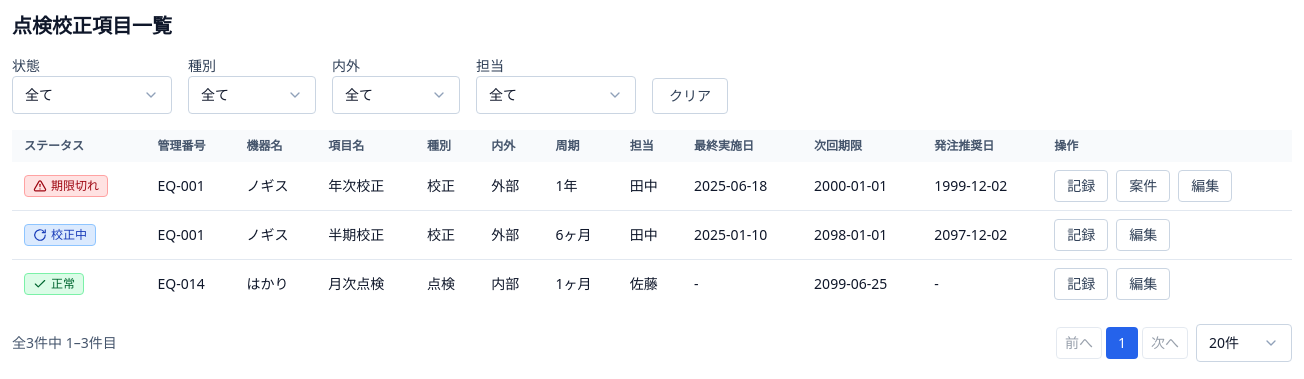
Test: ServiceItemList: フィルタ › 種別セレクトを変更すると行が絞られ URL に type が反映される
Click the dropdown named "種別" at (252, 95), box x1=188 y1=76 x2=316 y2=114
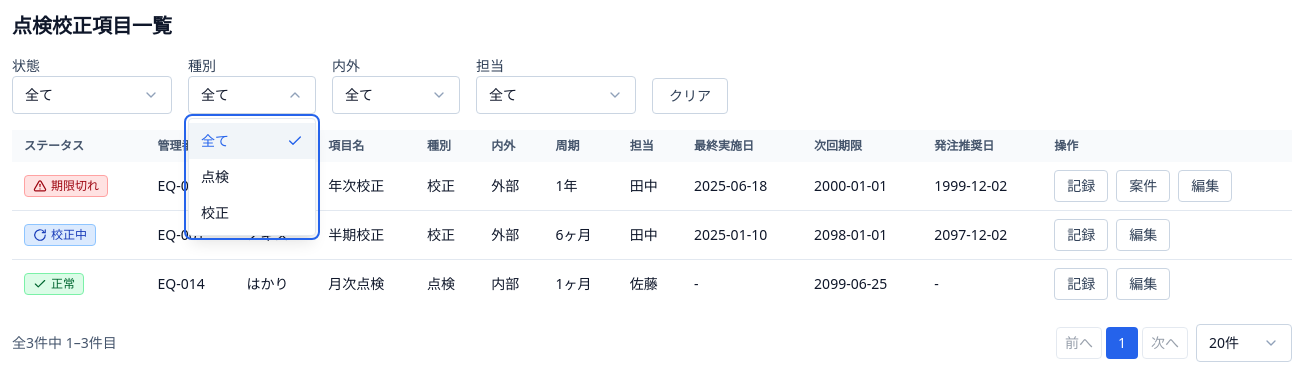
Click the option "点検" at (252, 177), box x1=189 y1=159 x2=315 y2=195
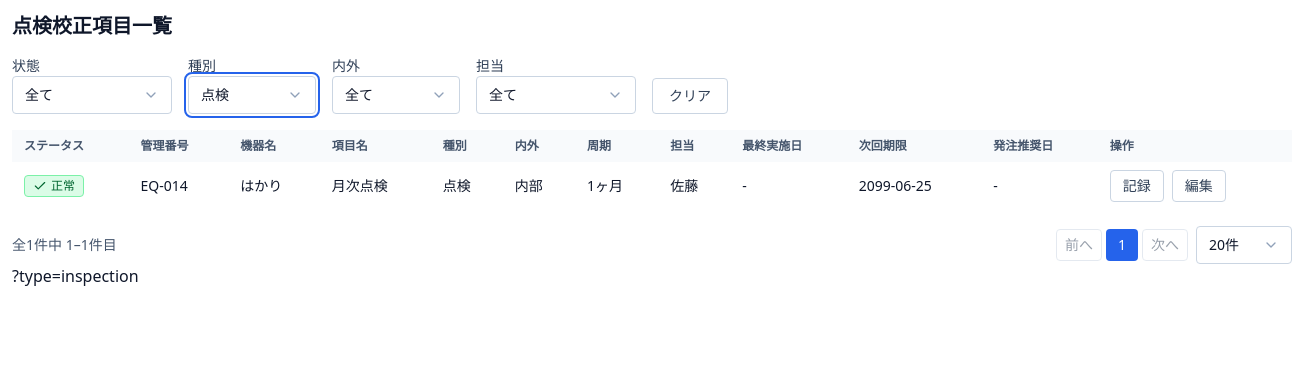
Expected: the row "正常 EQ-014 はかり 月次点検 点検 内部 1ヶ月 佐藤 - 2099-06-25 - 記録 編集" is shown, x1=12 y1=162 x2=1292 y2=210
Expected: the text with test id "search" shows "type=inspection", x1=12 y1=265 x2=139 y2=287
